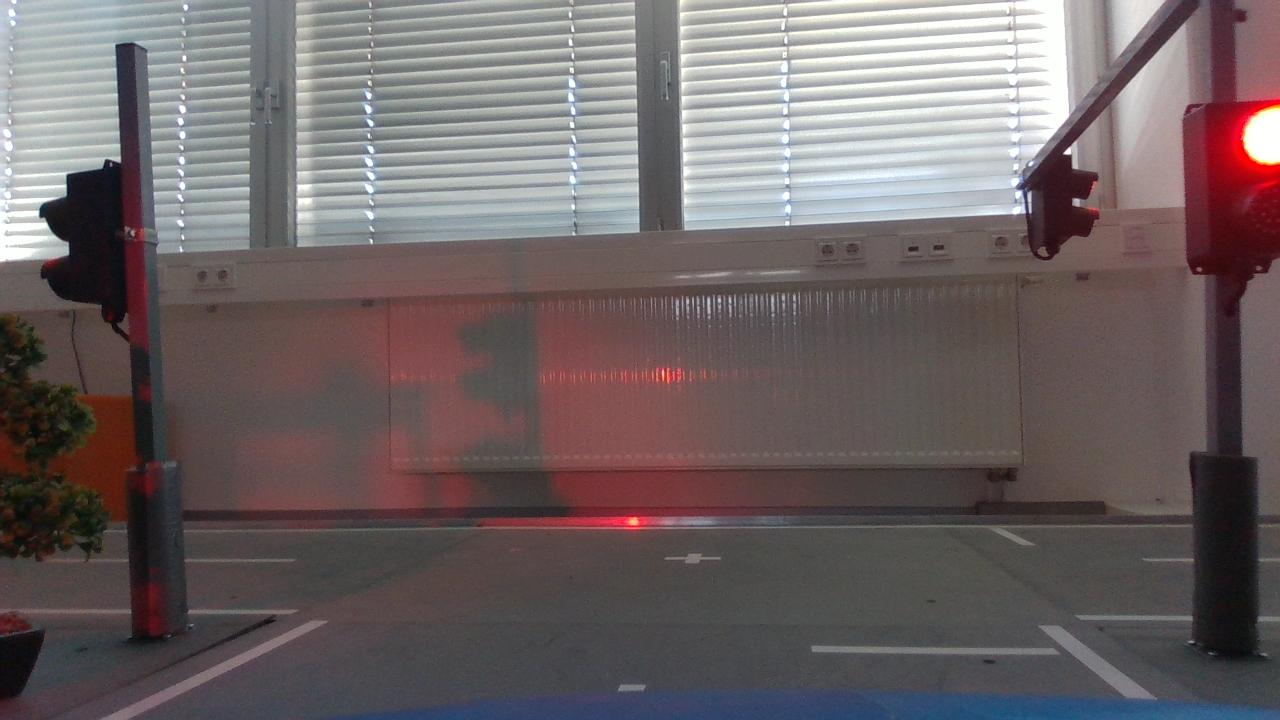traffic_light_red: (1173, 83, 1280, 286)
